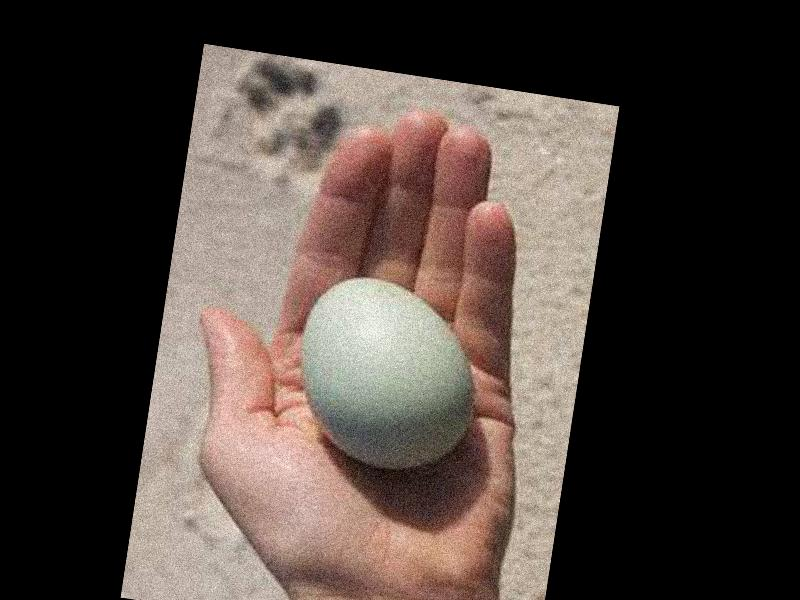Eggs: (290, 273, 490, 476)
